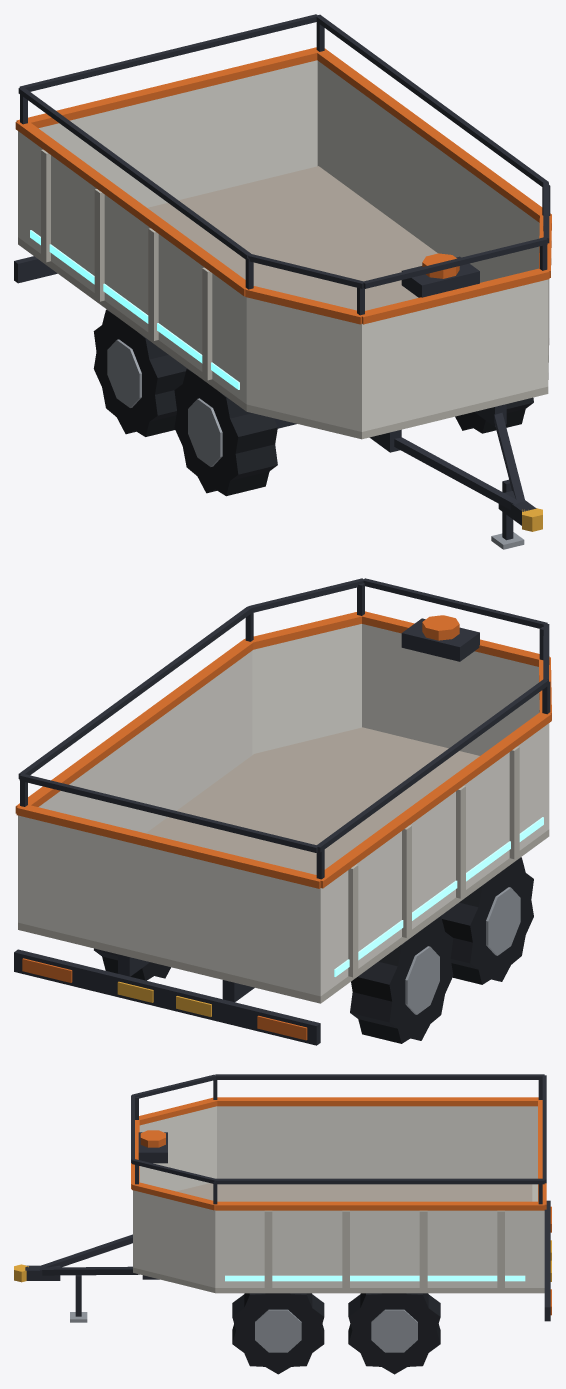
Rendered from vozidlo-prachocuc-privez-3.glb.
The picture shows the model from 3 angles, top to bottom: view 1: azimuth 30°, elevation 25°; view 2: azimuth 150°, elevation 25°; view 3: azimuth 270°, elevation 25°; orthographic projection. The views are drawn at different scales.
Parts seen in each view (by area): view 1: karoserie, hladina, kolo_1, kolo_3, kolo_2; view 2: karoserie, hladina, kolo_3, kolo_1, kolo_4; view 3: karoserie, kolo_4, kolo_2, hladina.
Boxes of the visible parts, <box> form: karoserie: <box>14,14,551,549</box>; hladina: <box>147,166,437,310</box>; kolo_1: <box>174,368,277,496</box>; kolo_3: <box>93,309,187,436</box>; kolo_2: <box>455,397,533,433</box>; karoserie: <box>14,578,551,1045</box>; hladina: <box>146,727,479,874</box>; kolo_3: <box>350,916,453,1043</box>; kolo_1: <box>440,857,533,984</box>; kolo_4: <box>94,948,170,980</box>; karoserie: <box>14,1074,551,1322</box>; kolo_4: <box>348,1293,440,1374</box>; kolo_2: <box>232,1293,324,1374</box>; hladina: <box>176,1183,532,1201</box>.
Bounding box in the file's own units: 2.68 × 2.22 × 5.55.
